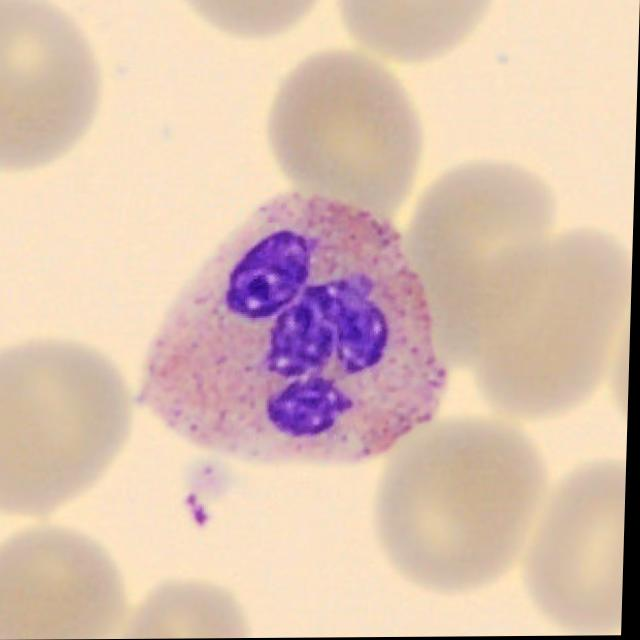Neutrofilo segmentado: (138, 190, 451, 465)
